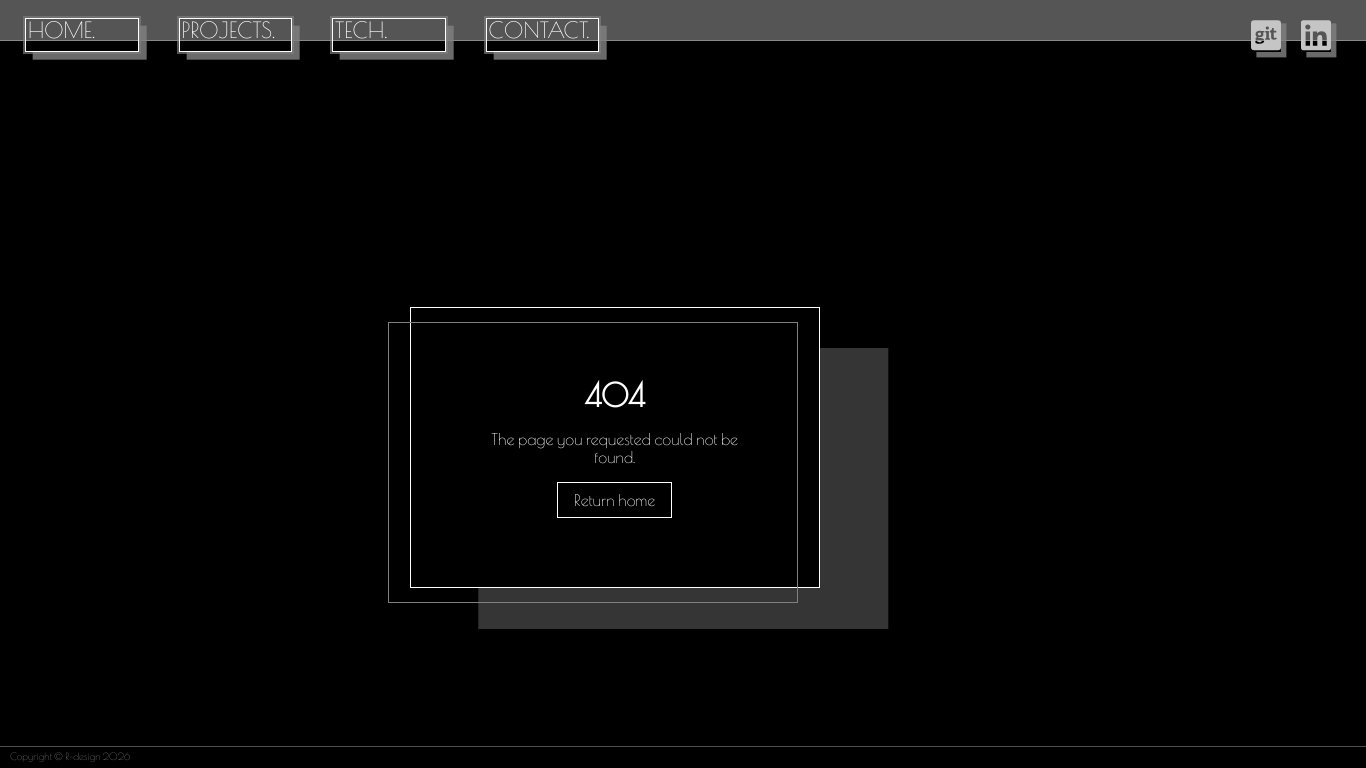
App routing › renders an explicit recovery link for unknown routes
Check: the heading "404" is shown, box [585, 376, 644, 414]
Click the link "Return home".
click(615, 500)  # box [557, 482, 672, 518]
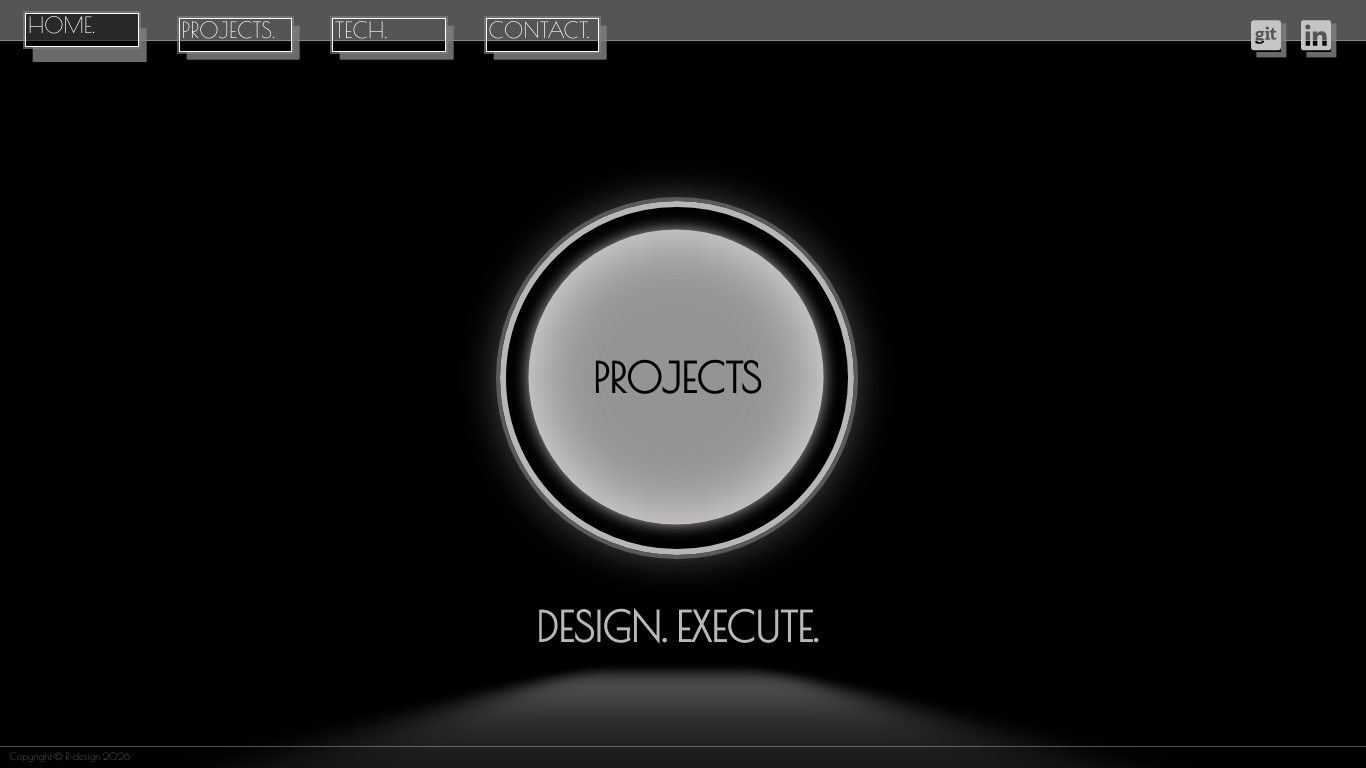
Check: the heading "Design. Execute." is shown, box [536, 603, 818, 651]
